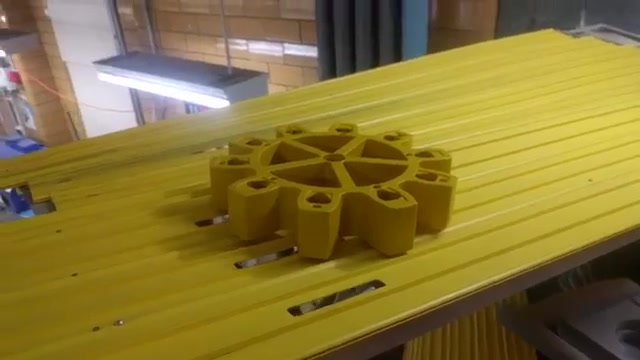gear: (204, 124, 472, 266)
